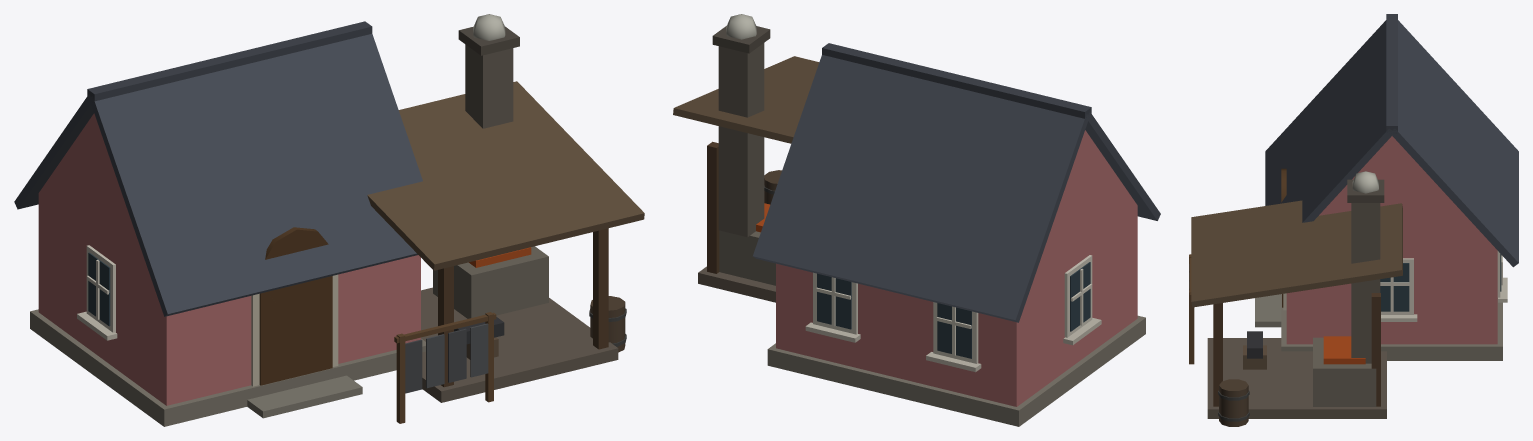
File: procedural_armor_workshop@4.glb
3 renders of one model, left to right at view 1: azimuth 30°, elevation 25°; view 2: azimuth 150°, elevation 25°; view 3: azimuth 270°, elevation 25°, orthographic. The views are drawn at different scales.
Visible parts, largest first — view 1: part_0, part_4; view 2: part_0, part_4; view 3: part_0, part_4.
Part boxes in pixels (bbox=[...]): part_0: bbox=[14, 21, 644, 426]; part_4: bbox=[473, 14, 505, 40]; part_0: bbox=[673, 26, 1160, 426]; part_4: bbox=[726, 14, 756, 39]; part_0: bbox=[1189, 14, 1518, 426]; part_4: bbox=[1352, 171, 1378, 193].
Bounding box in the file's own units: 7.9 × 4.97 × 6.25.
